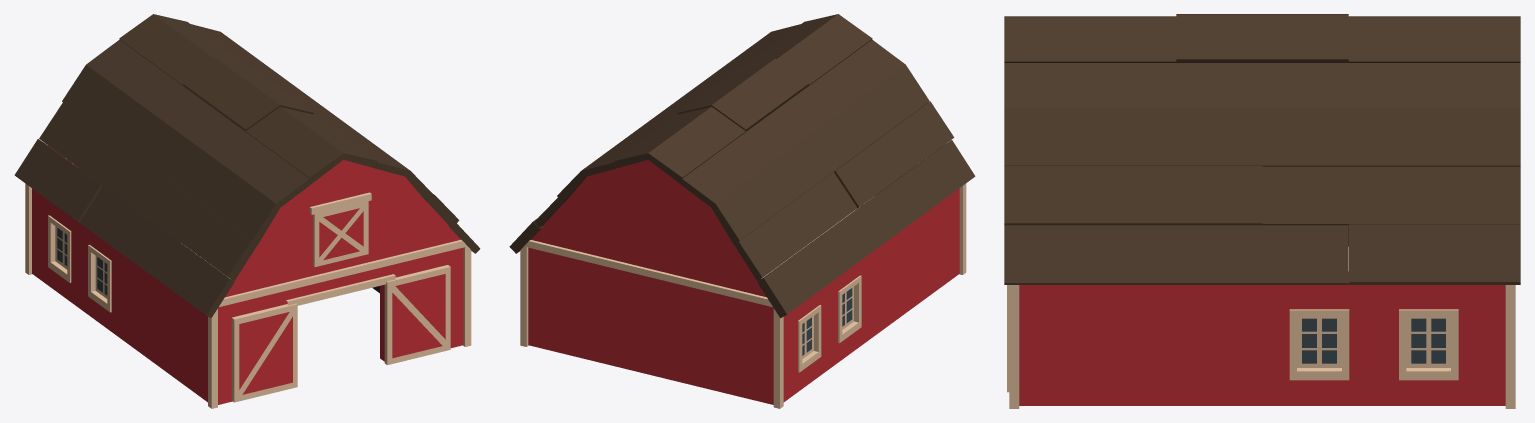
Rendered from farm_farm-house.fbx.
3 renders of one model, left to right at view 1: azimuth 30°, elevation 25°; view 2: azimuth 150°, elevation 25°; view 3: azimuth 270°, elevation 25°, orthographic. The views are drawn at different scales.
Parts seen in each view (by area): view 1: farm_farm_house; view 2: farm_farm_house; view 3: farm_farm_house.
Boxes of the visible parts, x1,y1,x2,y2 form: farm_farm_house: (14,14,480,408); farm_farm_house: (509,14,975,408); farm_farm_house: (1004,14,1520,408).
Size of the model in its own units: 169 by 132 by 200.
